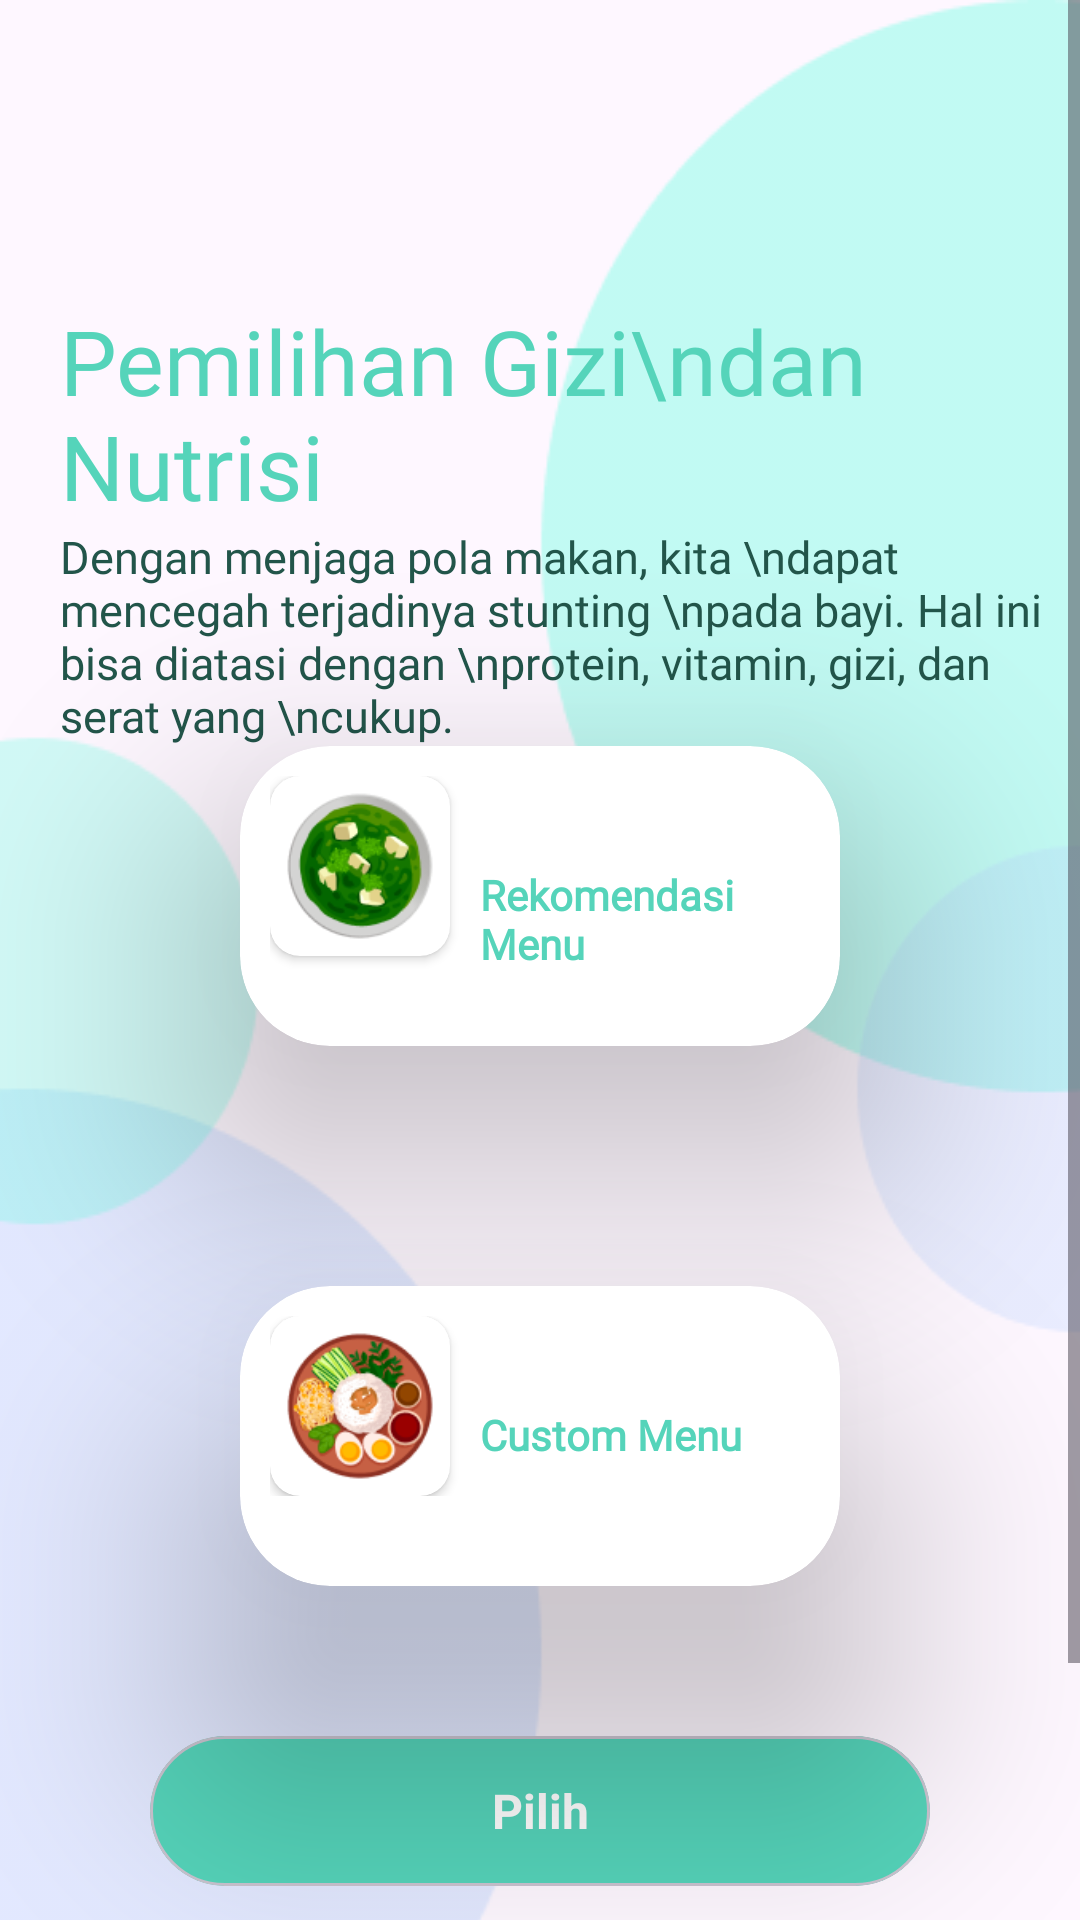

Point at icon controls on the screen. Image size 1080px×1920px, points as [x,y].
indian: [360,875]
indonesian: [360,1414]
